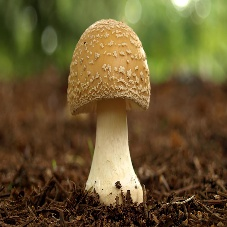mushroom: (65, 17, 151, 209)
